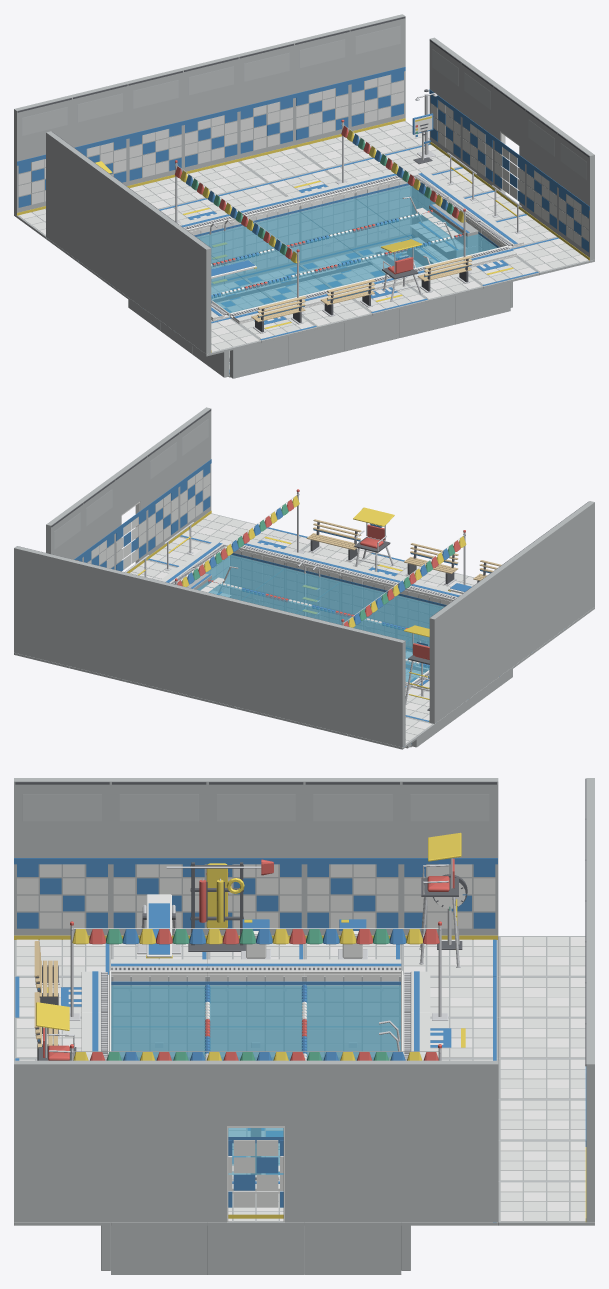
Rendered from swimming-pool.glb.
3 views of the same model, one above another, from view 1: azimuth 30°, elevation 25°; view 2: azimuth 150°, elevation 25°; view 3: azimuth 270°, elevation 25° (orthographic). The views are drawn at different scales.
Visible parts, largest first — view 1: 115-baths-wall-module0, 110-baths-wall-module0, 107-baths-wall-module0, 106-baths-wall-module0, 108-baths-wall-module0, 109-baths-wall-module0, 112-baths-wall-module0, 114-baths-wall-module0, 113-baths-wall-module0, 111-baths-wall-module0, 104-baths-wall-module0, 105-baths-wall-module0 (+98 smaller); view 2: 104-baths-wall-module0, 106-baths-wall-module0, 109-baths-wall-module0, 107-baths-wall-module0, 108-baths-wall-module0, 110-baths-wall-module0, 105-baths-wall-module0, 111-baths-wall-module0, 112-baths-wall-module0, 113-baths-wall-module0, 114-baths-wall-module0, 115-baths-wall-module0 (+37 smaller); view 3: 117-baths-wall-module0, 116-baths-wall-module0, 119-baths-wall-module0, 120-baths-wall-module0, 118-baths-wall-module-doorway0, 115-baths-wall-module0, 112-baths-wall-module0, 114-baths-wall-module0, 113-baths-wall-module0, 111-baths-wall-module0, 085-pool-tank-wall-section0, 083-pool-tank-wall-section0 (+85 smaller).
Boxes of the visible parts, x1=… form: 115-baths-wall-module0: x1=174, y1=225, x2=211, y2=354; 110-baths-wall-module0: x1=347, y1=14, x2=405, y2=130; 107-baths-wall-module0: x1=181, y1=55, x2=238, y2=171; 106-baths-wall-module0: x1=125, y1=68, x2=183, y2=185; 108-baths-wall-module0: x1=236, y1=41, x2=294, y2=158; 109-baths-wall-module0: x1=292, y1=28, x2=349, y2=144; 112-baths-wall-module0: x1=78, y1=155, x2=114, y2=283; 114-baths-wall-module0: x1=142, y1=201, x2=178, y2=330; 113-baths-wall-module0: x1=110, y1=178, x2=146, y2=306; 111-baths-wall-module0: x1=46, y1=131, x2=82, y2=259; 104-baths-wall-module0: x1=14, y1=95, x2=72, y2=215; 105-baths-wall-module0: x1=70, y1=82, x2=127, y2=185; 104-baths-wall-module0: x1=347, y1=627, x2=405, y2=747; 106-baths-wall-module0: x1=236, y1=600, x2=293, y2=720; 109-baths-wall-module0: x1=69, y1=559, x2=127, y2=679; 107-baths-wall-module0: x1=180, y1=586, x2=238, y2=706; 108-baths-wall-module0: x1=125, y1=573, x2=182, y2=693; 110-baths-wall-module0: x1=14, y1=546, x2=71, y2=665; 105-baths-wall-module0: x1=291, y1=613, x2=349, y2=733; 111-baths-wall-module0: x1=429, y1=595, x2=466, y2=723; 112-baths-wall-module0: x1=462, y1=571, x2=498, y2=700; 113-baths-wall-module0: x1=494, y1=548, x2=530, y2=676; 114-baths-wall-module0: x1=526, y1=524, x2=562, y2=653; 115-baths-wall-module0: x1=558, y1=501, x2=594, y2=629; 117-baths-wall-module0: x1=304, y1=1060, x2=401, y2=1222; 116-baths-wall-module0: x1=401, y1=1060, x2=498, y2=1222; 119-baths-wall-module0: x1=110, y1=1060, x2=207, y2=1222; 120-baths-wall-module0: x1=14, y1=1060, x2=110, y2=1222; 118-baths-wall-module-doorway0: x1=207, y1=1060, x2=304, y2=1222; 115-baths-wall-module0: x1=14, y1=778, x2=110, y2=935; 112-baths-wall-module0: x1=304, y1=778, x2=401, y2=935; 114-baths-wall-module0: x1=110, y1=778, x2=207, y2=935; 113-baths-wall-module0: x1=207, y1=778, x2=304, y2=935; 111-baths-wall-module0: x1=401, y1=778, x2=498, y2=939; 085-pool-tank-wall-section0: x1=207, y1=1225, x2=304, y2=1274; 083-pool-tank-wall-section0: x1=304, y1=1225, x2=401, y2=1274.
Bounding box in the file's own units: 14 × 5.68 × 12.
